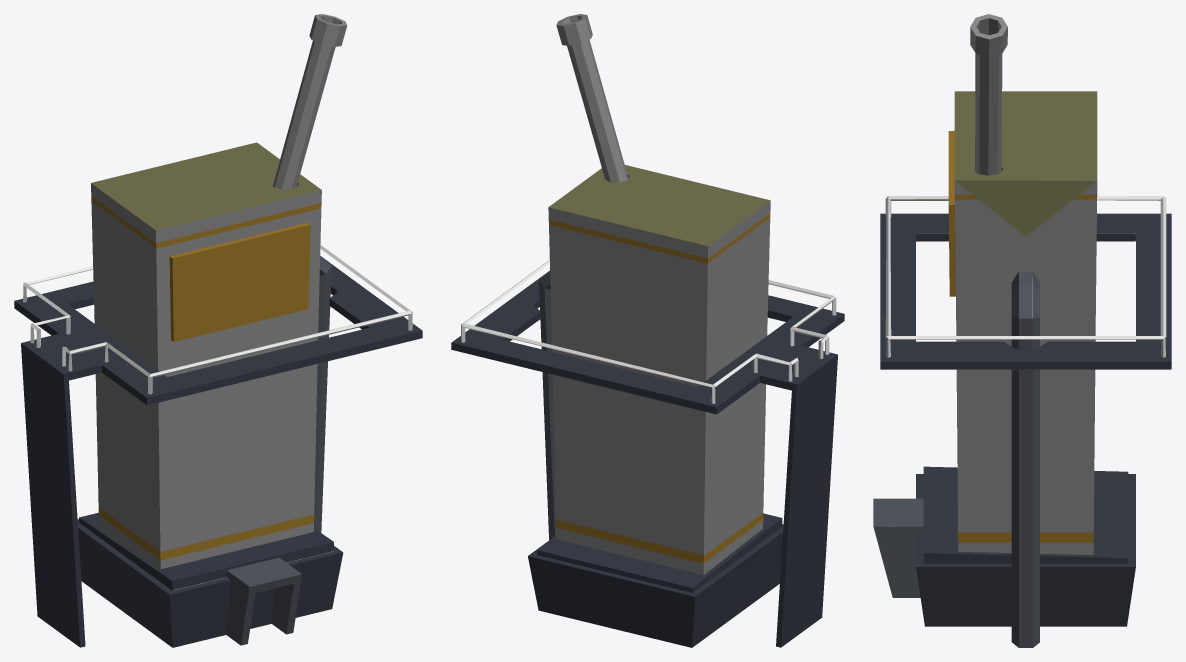
Rendered from guozhi 1.fbx.
The picture shows the model from 3 angles, left to right: view 1: azimuth 30°, elevation 25°; view 2: azimuth 150°, elevation 25°; view 3: azimuth 270°, elevation 25°; orthographic projection. The views are drawn at different scales.
Parts seen in each view (by area): view 1: 立方体.009; view 2: 立方体.009; view 3: 立方体.009.
Boxes of the visible parts, box(x1,y1,x2,y2) form: 立方体.009: box(14, 14, 422, 647); 立方体.009: box(451, 14, 844, 647); 立方体.009: box(873, 14, 1171, 647).
Size of the model in its own units: 273 by 476 by 205.
1 material, 1 textured.
